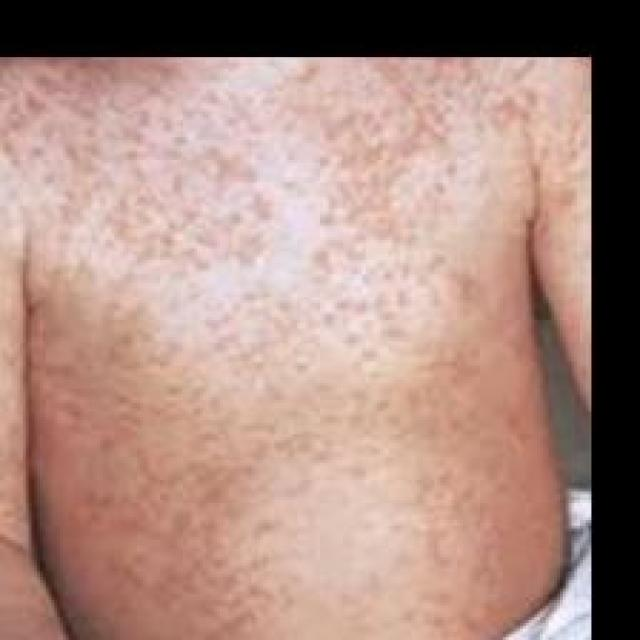others: (0, 57, 594, 640)
